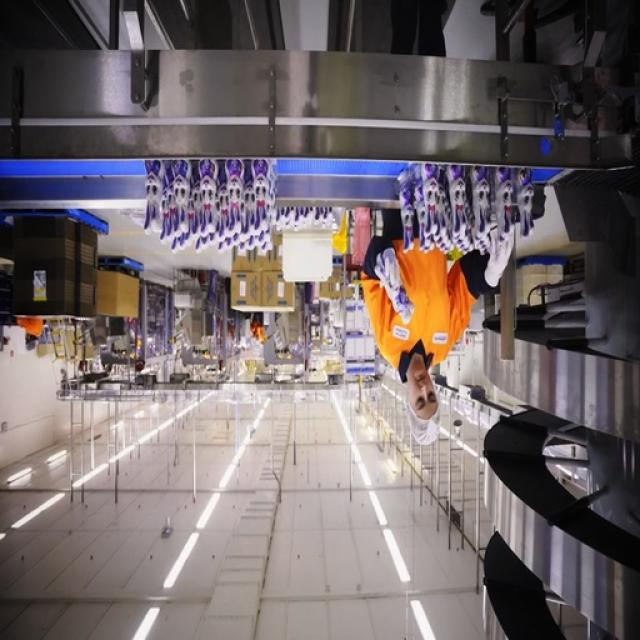conveyor: (0, 162, 589, 209)
